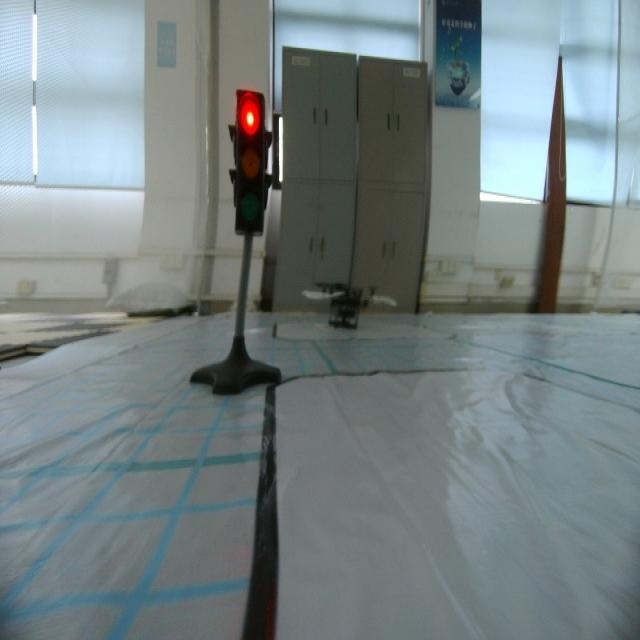red: (233, 80, 268, 239)
